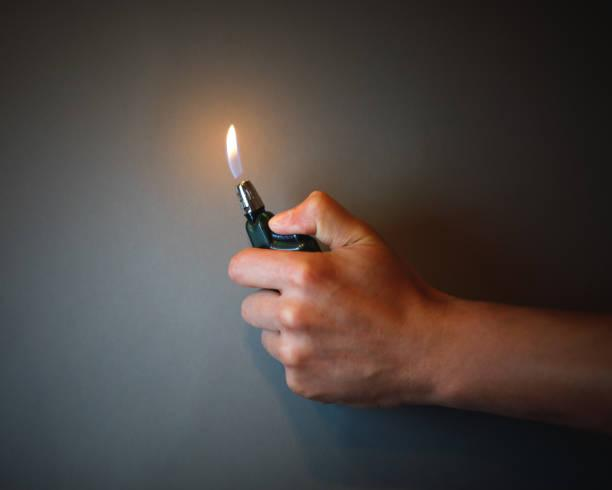Fire: (219, 116, 248, 181)
